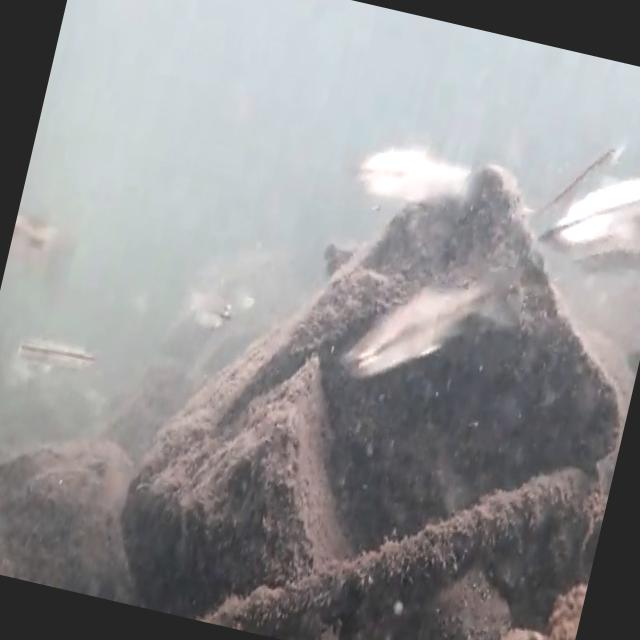Cakil Baligi: (344, 218, 532, 410), (541, 129, 640, 281), (347, 118, 486, 226), (8, 320, 102, 388), (180, 276, 238, 334)
